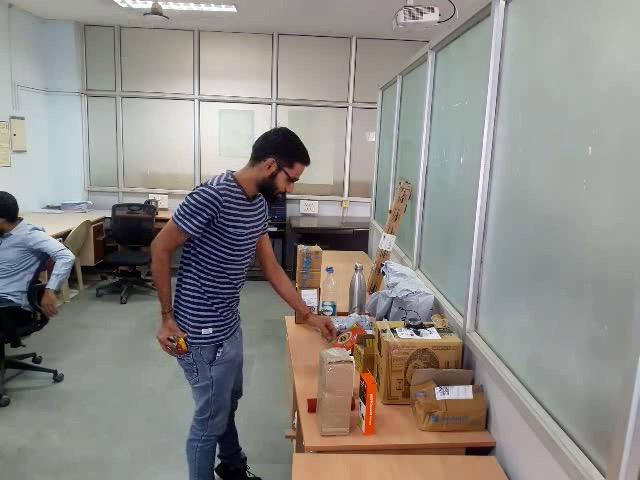shoplifting: (107, 272, 269, 398)
